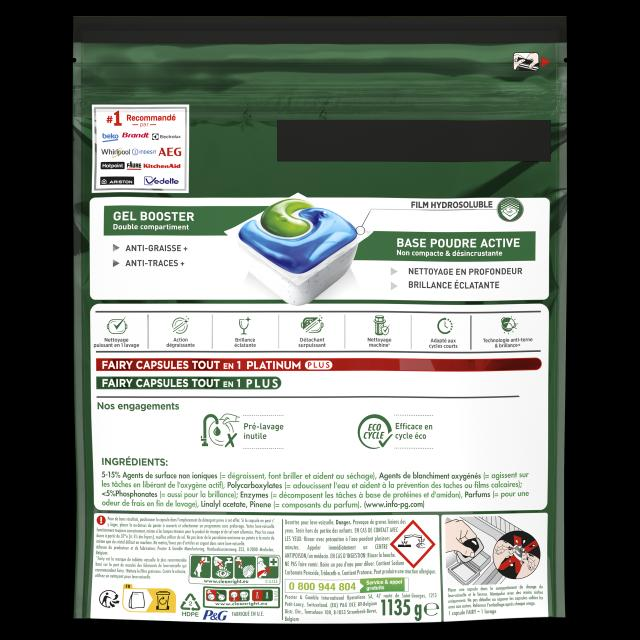GHS_Symbol_CORROSION: (391, 520, 435, 567)
